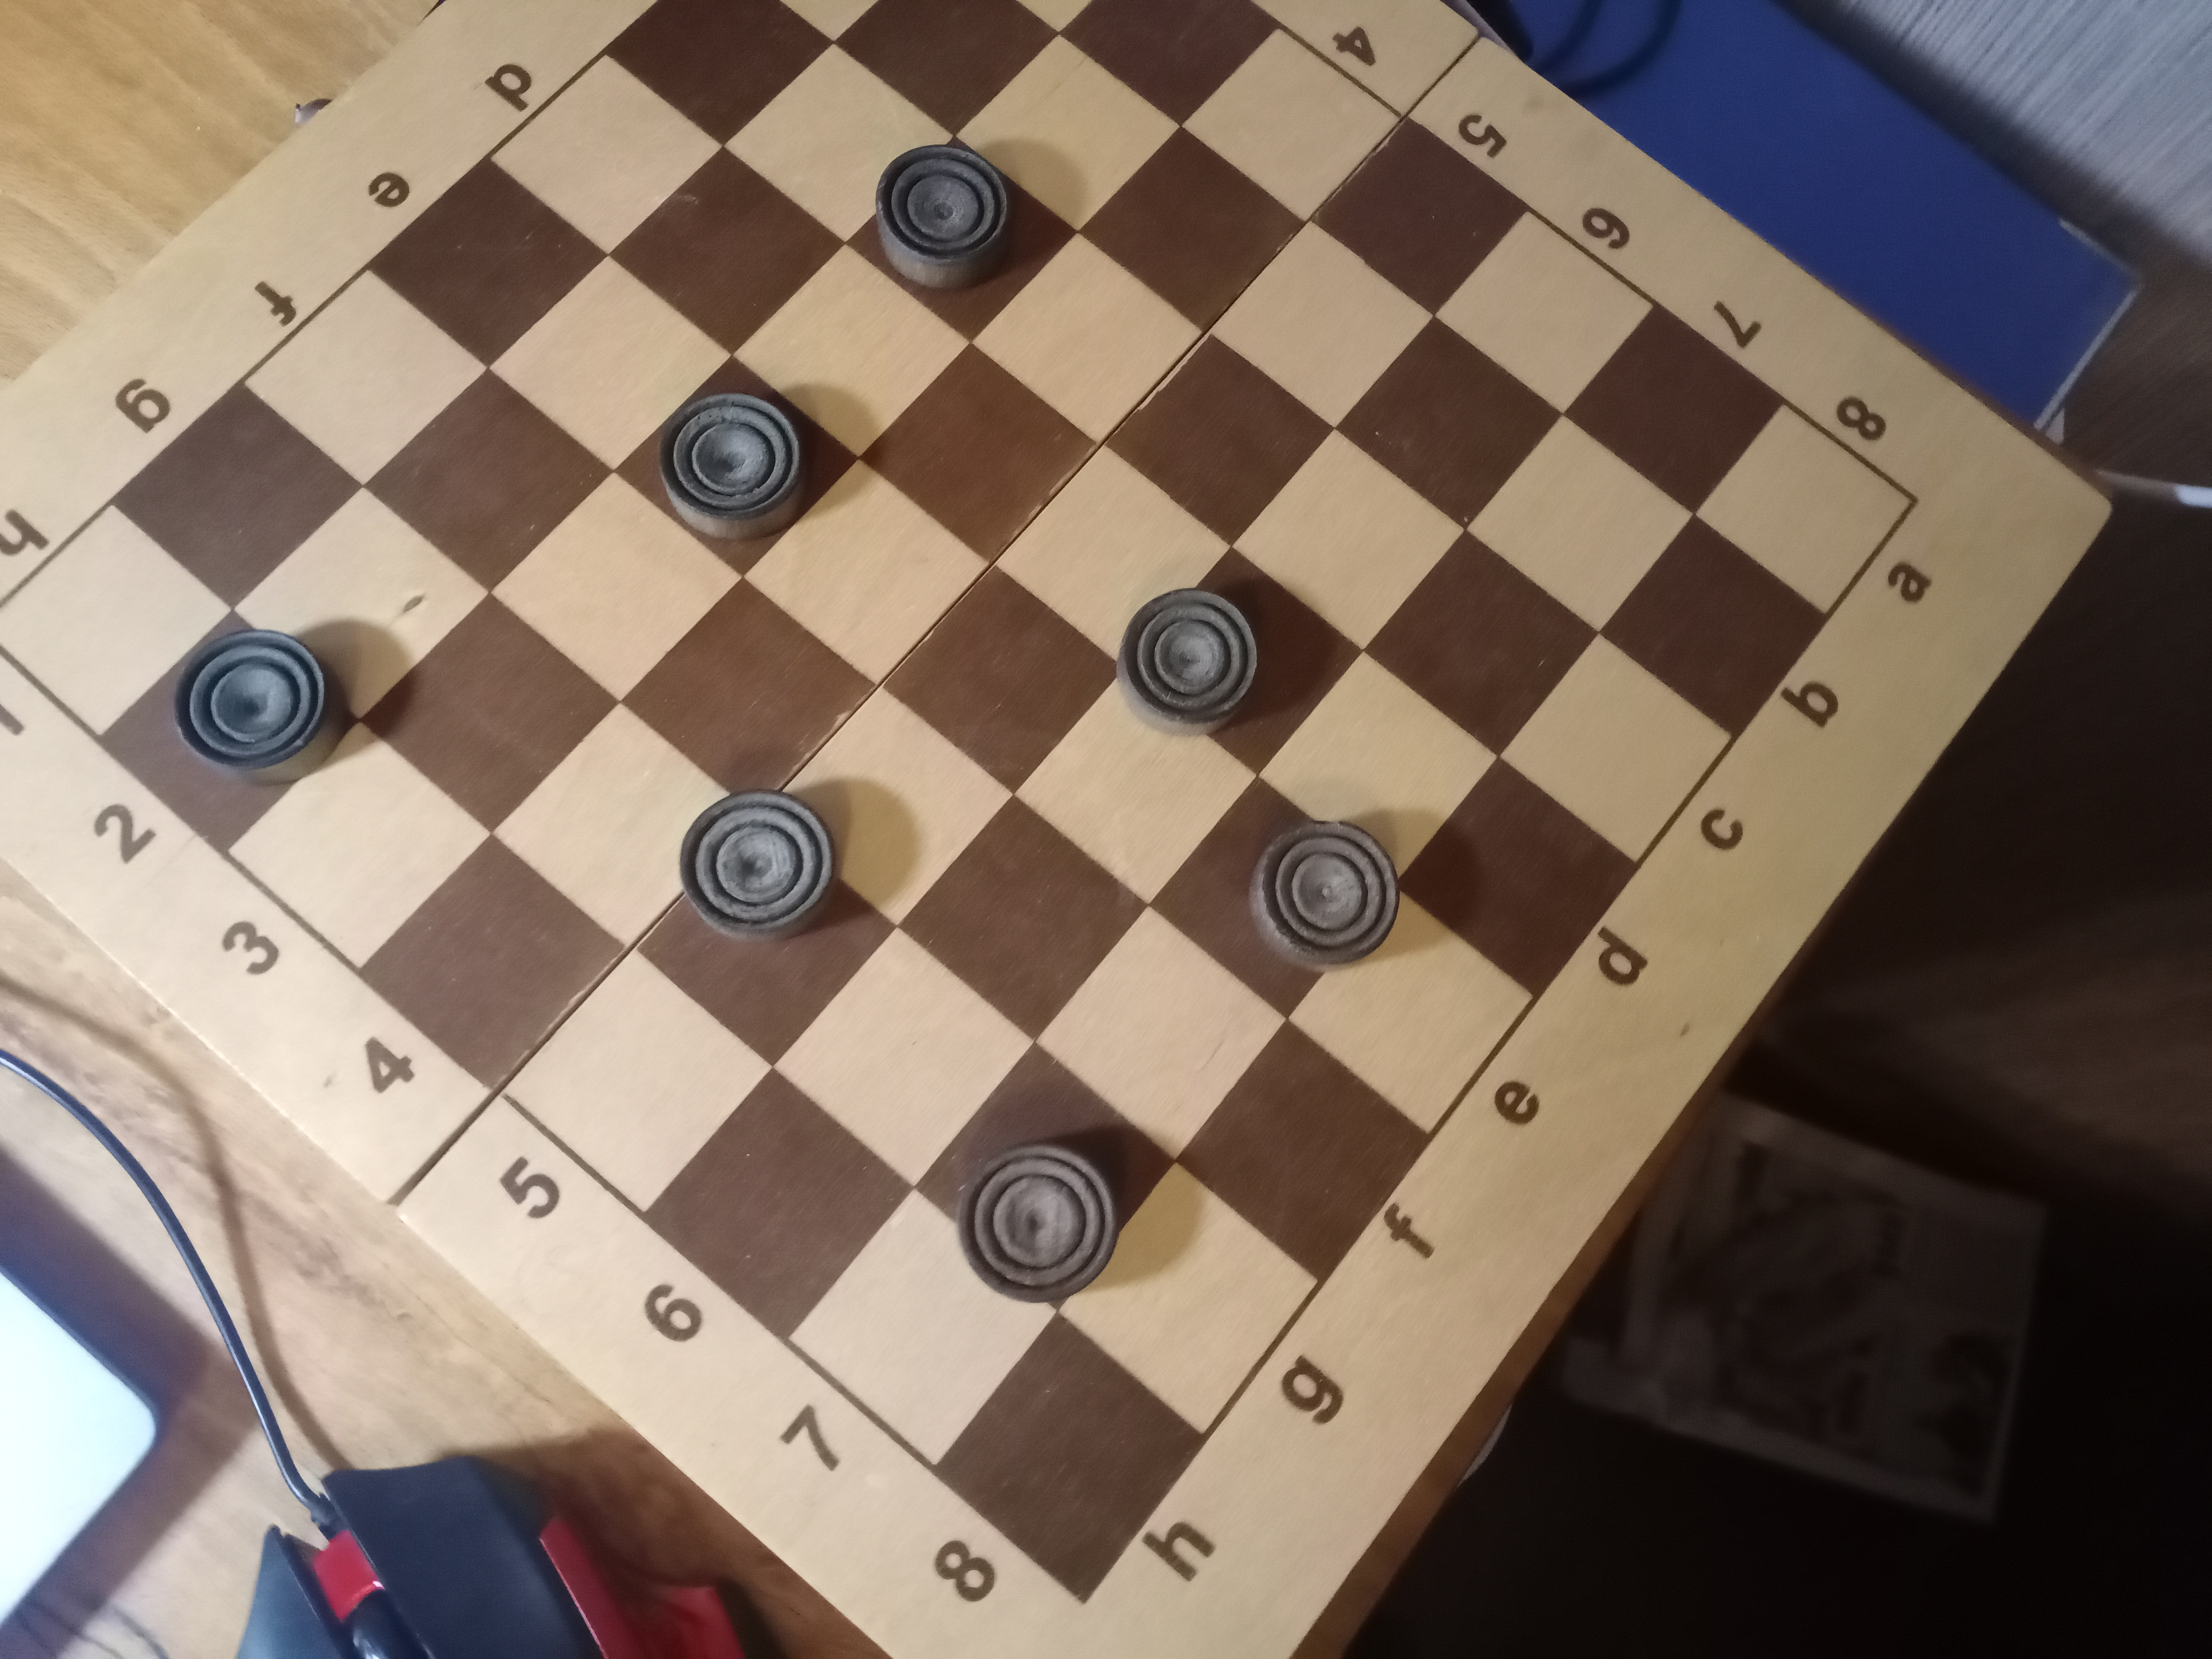Black_Draught: (636, 789, 897, 1063), (914, 1044, 1177, 1309), (96, 612, 362, 847), (1150, 777, 1400, 1019), (1113, 545, 1366, 777), (613, 357, 864, 579), (846, 134, 1076, 347)
